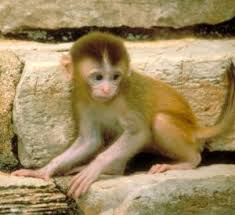monkey: (23, 31, 219, 197)
